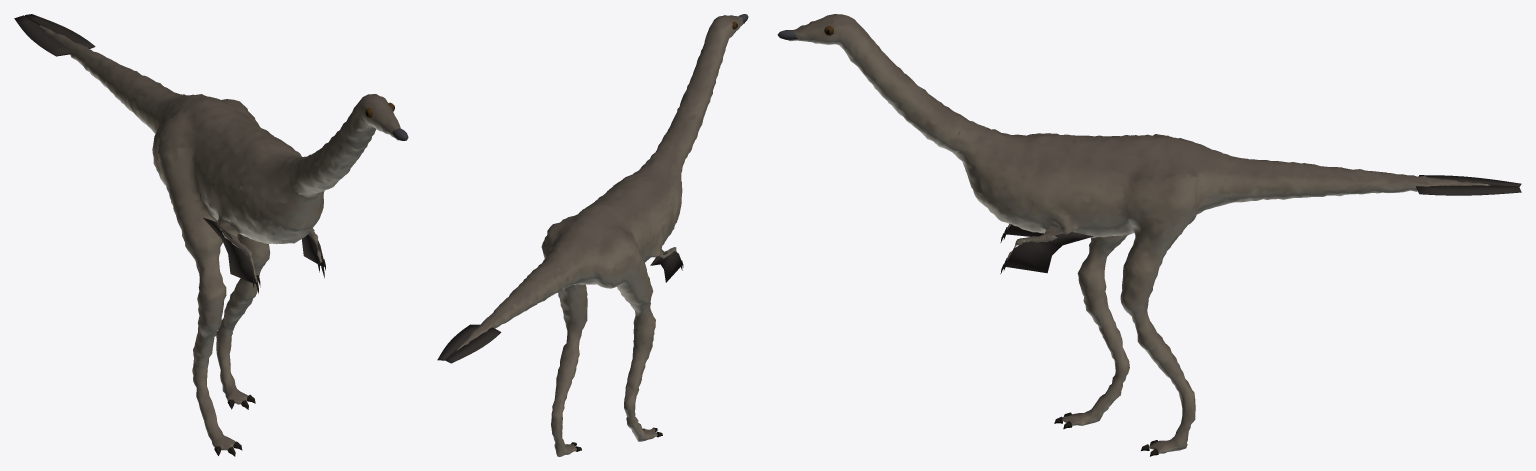
Rendered from Gallimimus.fbx.
3 views of the same model, side by side, from view 1: azimuth 30°, elevation 25°; view 2: azimuth 150°, elevation 25°; view 3: azimuth 270°, elevation 25° (orthographic). The views are drawn at different scales.
Visible parts, largest first — view 1: Gallimimus; view 2: Gallimimus; view 3: Gallimimus.
Part boxes in pixels (bbox=[...]): Gallimimus: bbox=[14, 14, 408, 456]; Gallimimus: bbox=[437, 14, 748, 456]; Gallimimus: bbox=[777, 14, 1521, 456].
Bounding box in the file's own units: 0.2704 × 1.08 × 1.72.
